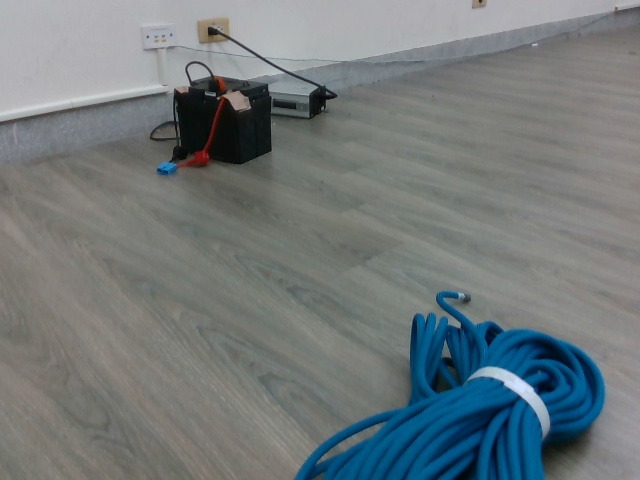rope: (276, 303, 615, 480)
